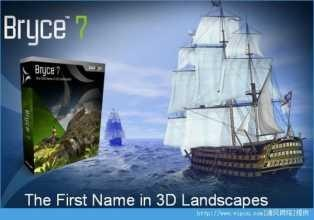fanchuan: (166, 3, 306, 172)
